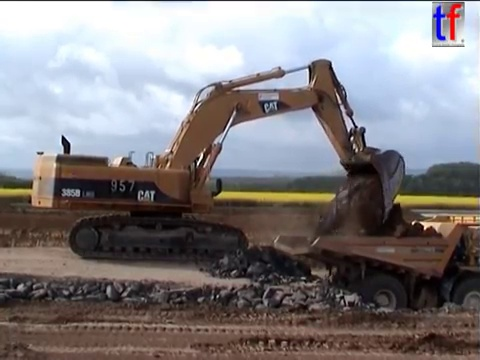excavator: (28, 56, 409, 265)
truck: (270, 211, 480, 329)
